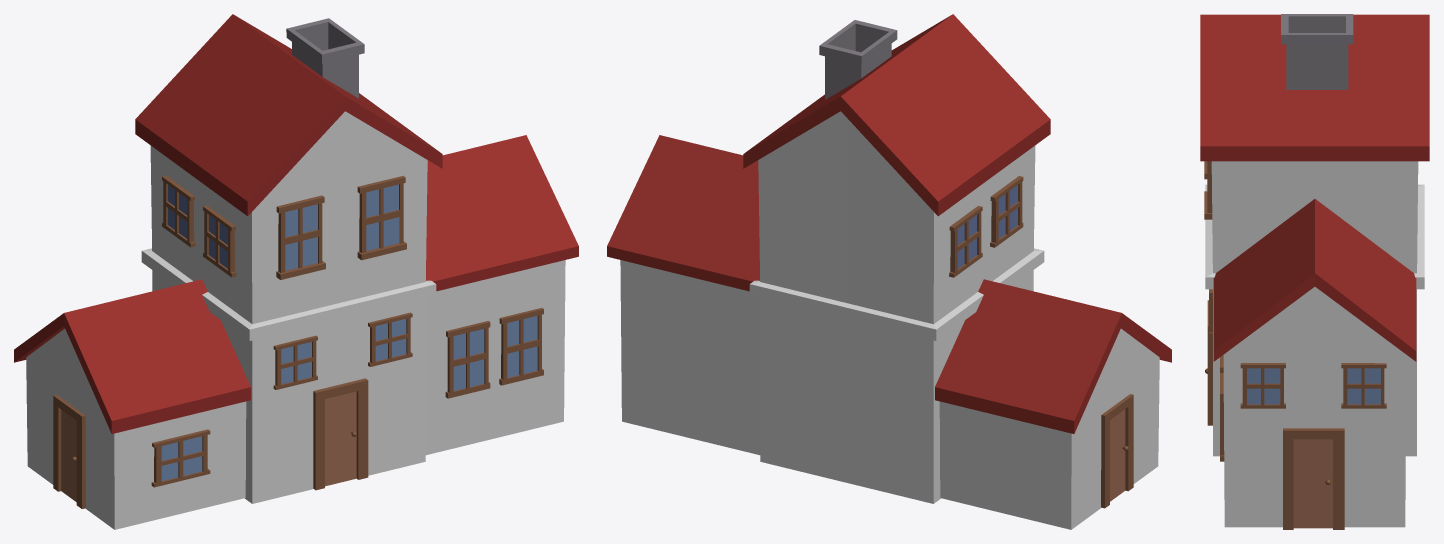
The model's file is TripleHouse.fbx.
3 renders of one model, left to right at view 1: azimuth 30°, elevation 25°; view 2: azimuth 150°, elevation 25°; view 3: azimuth 270°, elevation 25°, orthographic.
Visible parts, largest first — view 1: TripleHouse.001, TripleHouse; view 2: TripleHouse, TripleHouse.001; view 3: TripleHouse.001, TripleHouse.
Boxes of the visible parts, box(x1,y1,x2,y2) form: TripleHouse.001: box(14, 14, 578, 508); TripleHouse: box(26, 111, 565, 529); TripleHouse: box(620, 111, 1159, 529); TripleHouse.001: box(607, 14, 1171, 508); TripleHouse.001: box(1200, 14, 1429, 529); TripleHouse: box(1205, 161, 1424, 527).
Bounding box in the file's own units: 1050 × 860 × 439.
